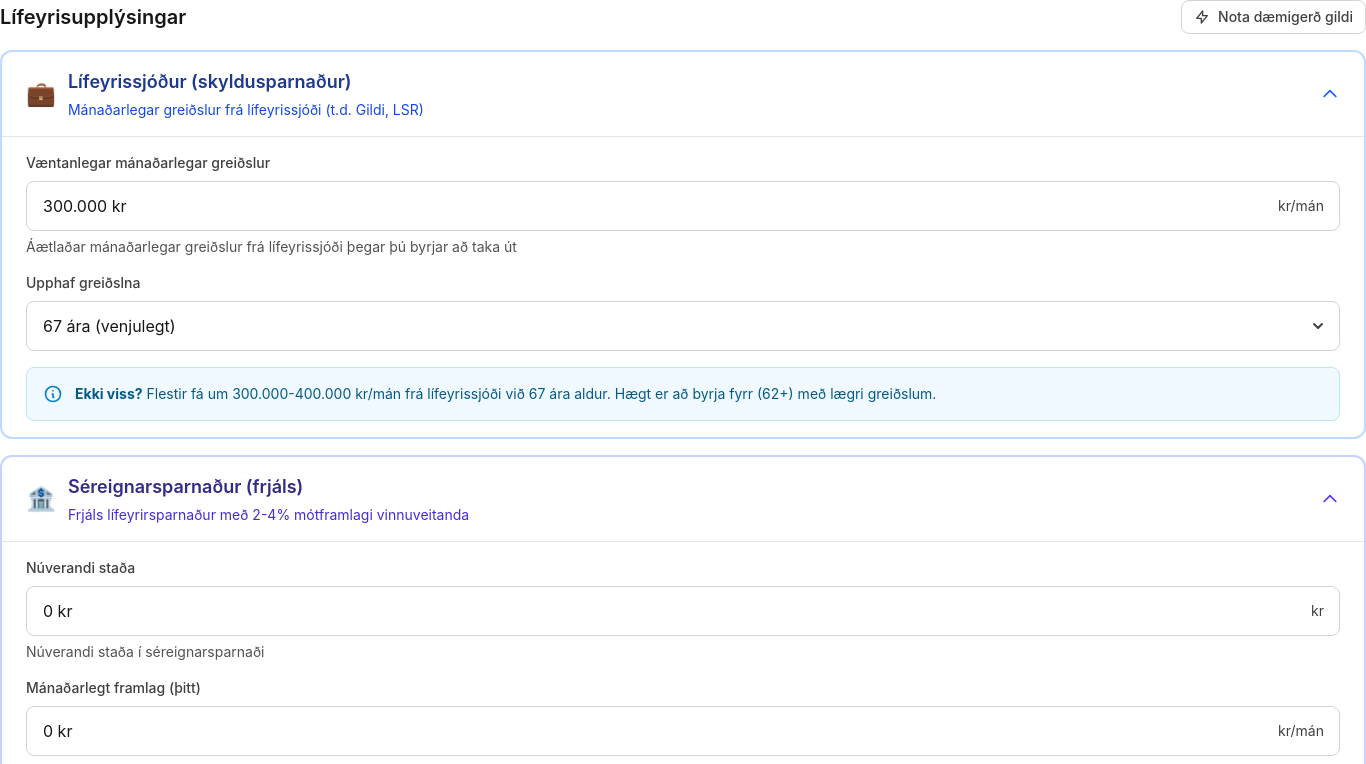
Test: PensionInputs › Séreign Section › collapses and expands séreign section
Expected: the field labelled "Núverandi staða" is shown, [26,586,1340,636]
// Click to collapse
Click the element that starts with "Séreignarsparnaður (frjáls)": click(248, 499) [26,473,469,525]
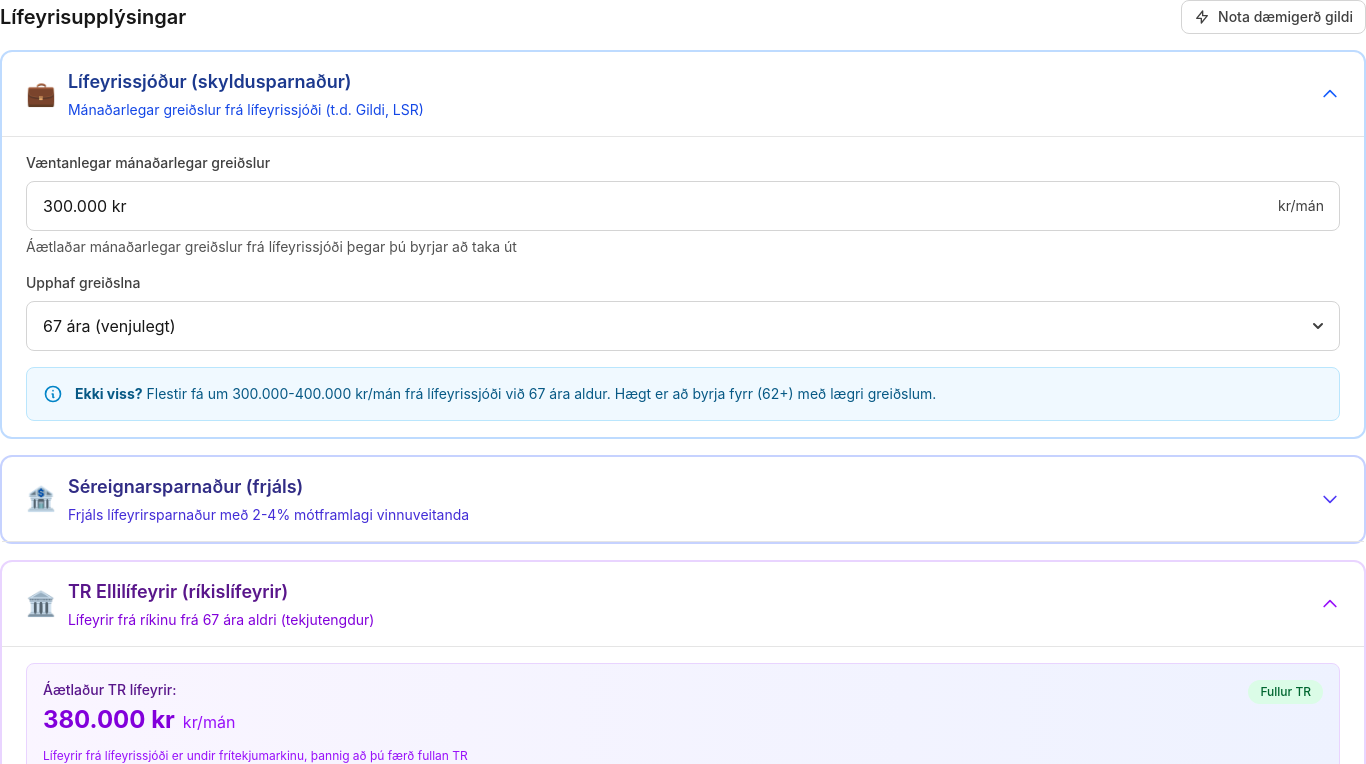
Now the label labelled "Núverandi staða" is gone
// Click to expand again
Click the element that starts with "Séreignarsparnaður (frjáls)": click(248, 499) [26,473,469,525]
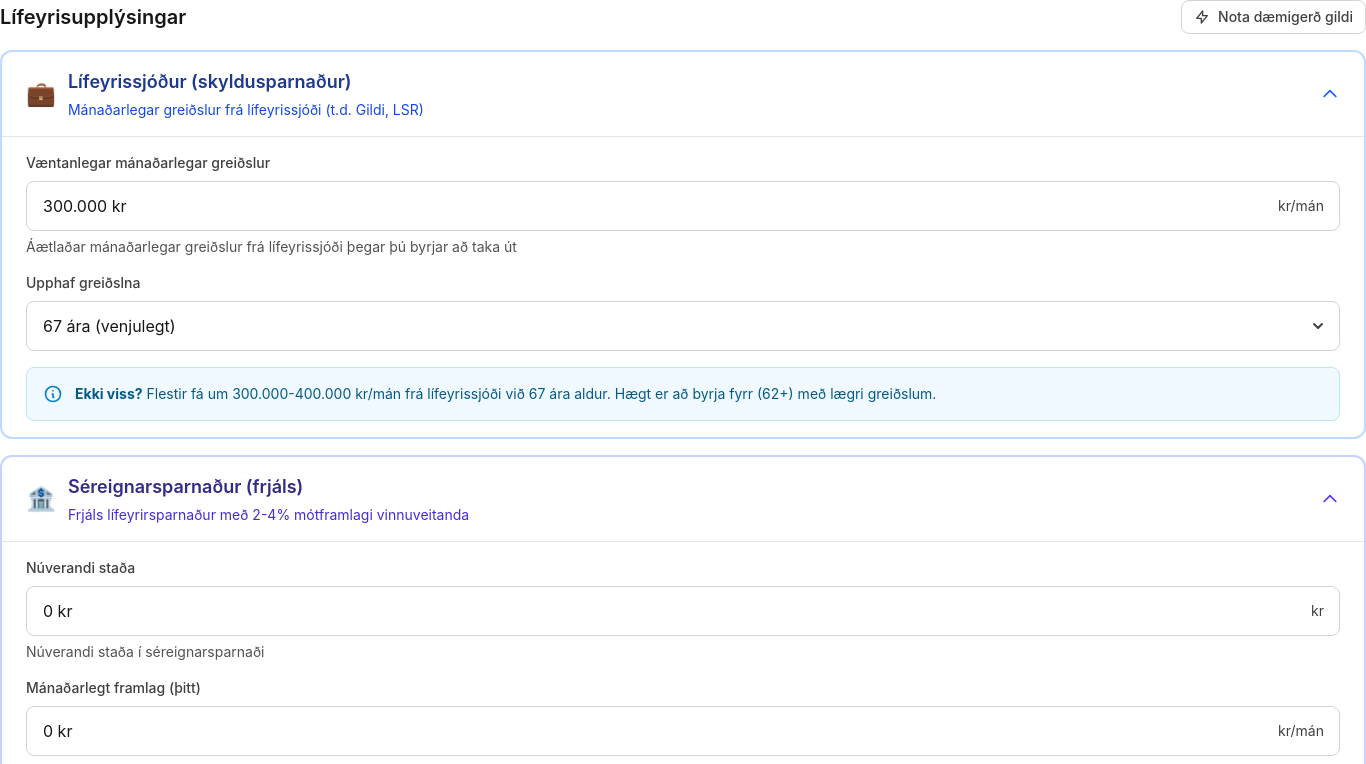
Now the field labelled "Núverandi staða" is shown, box [26,586,1340,636]
